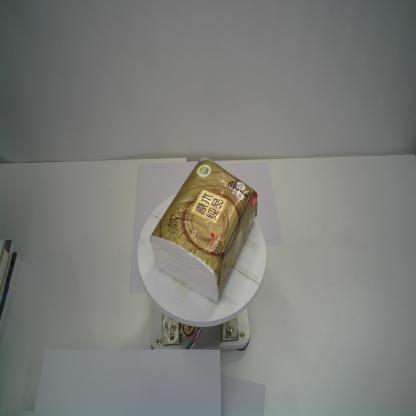Tissue: (149, 156, 258, 303)
